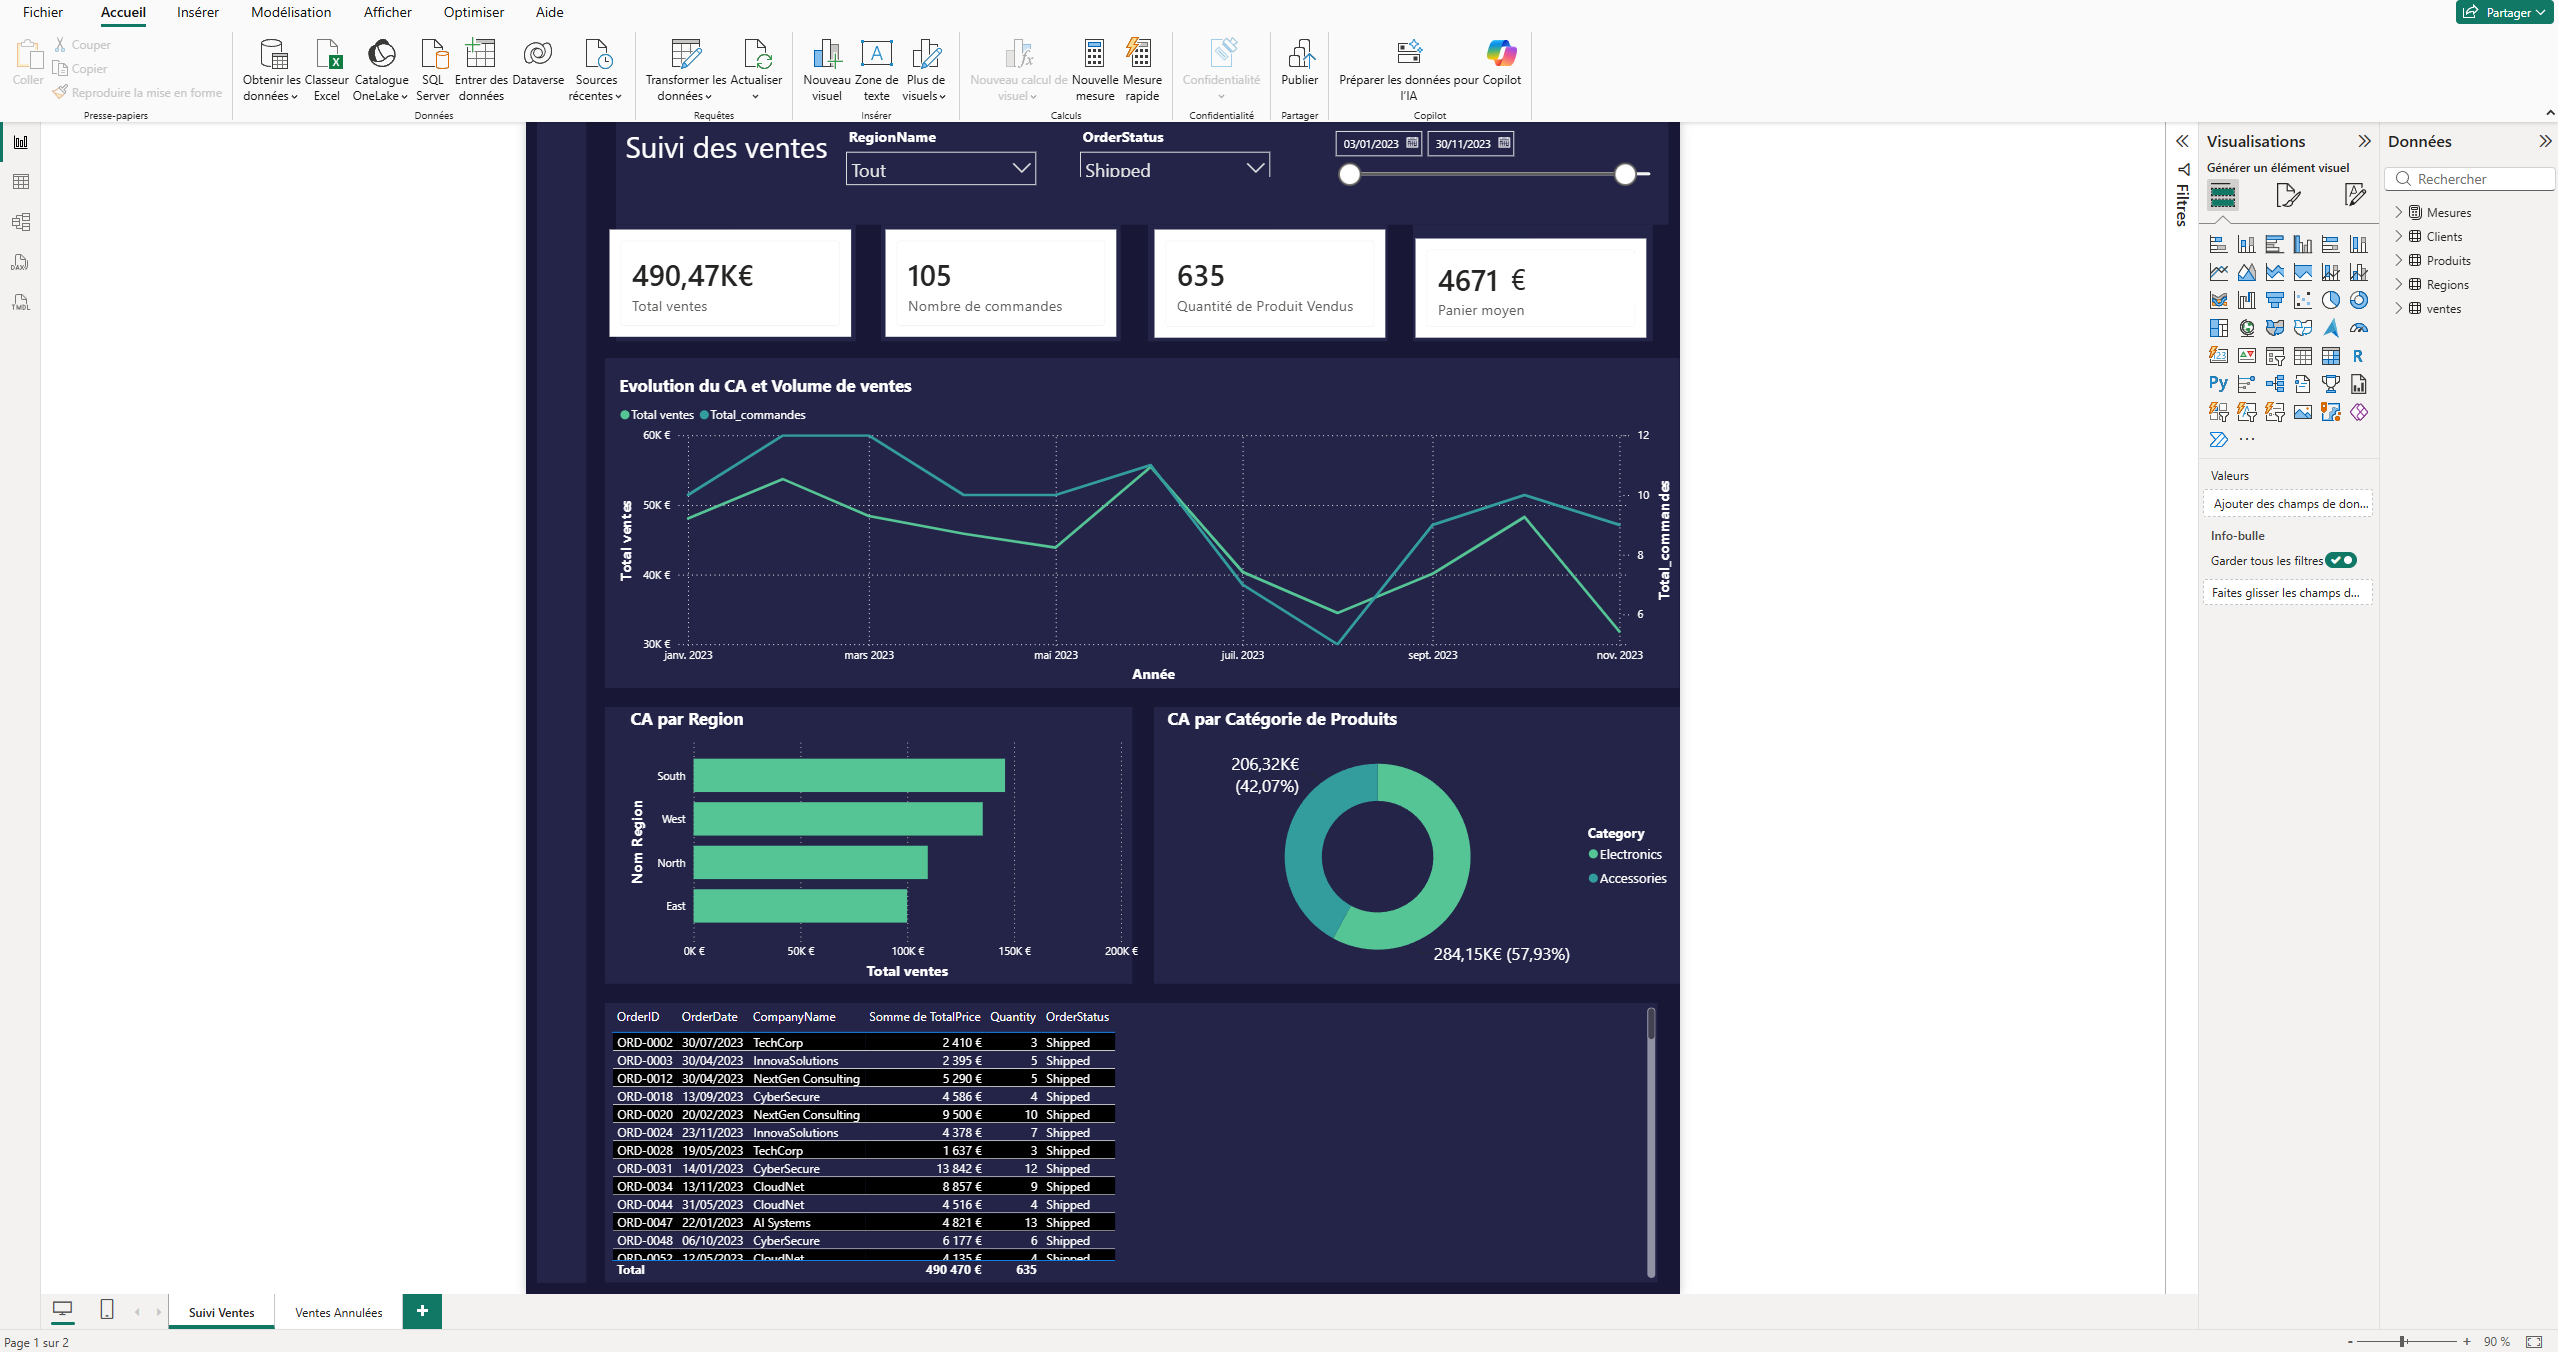

The dashboard page shown, as its layout file describes it:
{"tool":"powerbi","page":{"name":"Suivi Ventes","canvas":[1280,1300],"ordinal":0},"visuals":[{"type":"shape","box":[12.2,0,54.7,1287.6],"z":0},{"type":"shape","box":[100.3,0,1167.5,114],"z":1000},{"type":"shape","box":[100.3,114,266,129.2],"z":2000},{"type":"shape","box":[88.2,261.5,1191.8,366.4],"z":3000},{"type":"shape","box":[88.2,649.1,585.3,307.1],"z":4000},{"type":"shape","box":[696.2,649.1,583.8,307.1],"z":5000},{"type":"shape","box":[88.2,977.5,1167.5,310.1],"z":6000},{"type":"textbox","box":[104.9,0,258.4,89.7],"z":7000},{"type":"shape","box":[393.7,114,266,129.2],"z":8000},{"type":"shape","box":[690.2,114,266,129.2],"z":9000},{"type":"shape","box":[983.6,114,266,129.2],"z":10000},{"type":"cardVisual","fields":{"Data":["ventes.Total ventes"]},"box":[88.2,114,278.2,129.2],"z":11000},{"type":"cardVisual","fields":{"Data":["ventes.Total_commandes"]},"box":[393.7,114,266,129.2],"z":12000},{"type":"cardVisual","fields":{"Data":["Produits.Quantité de Produit Vendus"]},"box":[691.7,114,266,130.7],"z":13000},{"type":"cardVisual","fields":{"Data":["ventes.Panier moyen"]},"box":[982,124.7,266,120.1],"z":14000},{"type":"textbox","box":[1086.9,145.9,145.9,57.8],"z":15000},{"type":"lineChart","title":"Evolution du CA et Volume de ventes","fields":{"Category":["ventes.OrderDate.Variation.Hiérarchie de dates.Année","ventes.OrderDate.Variation.Hiérarchie de dates.Trimestre","ventes.OrderDate.Variation.Hiérarchie de dates.Mois"],"Y":["Mesures.Total ventes"],"Y2":["Mesures.Total_commandes"]},"box":[98.8,279.7,1181.2,348.1],"z":16000},{"type":"barChart","title":"CA par Region","fields":{"Category":["Regions.RegionName"],"Y":["Mesures.Total ventes"]},"box":[111,649.1,573.1,307.1],"z":17000},{"type":"donutChart","title":"CA par Catégorie de Produits","fields":{"Category":["Produits.Category"],"Y":["Mesures.Total ventes"]},"box":[706.9,649.1,573.1,307.1],"z":18000},{"type":"tableEx","fields":{"Values":["ventes.OrderID","ventes.OrderDate","Clients.CompanyName","Sum(ventes.TotalPrice)","Sum(ventes.Quantity)","ventes.OrderStatus"]},"box":[89.7,977.5,1167.5,310.1],"z":19000},{"type":"slicer","fields":{"Values":["Regions.RegionName"]},"box":[345.1,0,231.1,114],"z":20000},{"type":"slicer","fields":{"Values":["ventes.OrderStatus"]},"box":[605,0,231.1,60.8],"z":21000},{"type":"slicer","fields":{"Values":["ventes.OrderDate"]},"box":[884.8,0,383.1,114],"z":22000}]}

Visuals, with their boxes on the page's 1280x1300 design canvas (x1, y1, x2, y2). These are canvas units, not pixel positions in the 2558x1352 screenshot, which may show the page scaled, cropped or inside an application window:
shape: BBox(12, 0, 67, 1288)
shape: BBox(100, 0, 1268, 114)
shape: BBox(100, 114, 366, 243)
shape: BBox(88, 262, 1280, 628)
shape: BBox(88, 649, 674, 956)
shape: BBox(696, 649, 1280, 956)
shape: BBox(88, 978, 1256, 1288)
textbox: BBox(105, 0, 363, 90)
shape: BBox(394, 114, 660, 243)
shape: BBox(690, 114, 956, 243)
shape: BBox(984, 114, 1250, 243)
cardVisual - ventes.Total ventes: BBox(88, 114, 366, 243)
cardVisual - ventes.Total_commandes: BBox(394, 114, 660, 243)
cardVisual - Produits.Quantité de Produit Vendus: BBox(692, 114, 958, 245)
cardVisual - ventes.Panier moyen: BBox(982, 125, 1248, 245)
textbox: BBox(1087, 146, 1233, 204)
"Evolution du CA et Volume de ventes" lineChart: BBox(99, 280, 1280, 628)
"CA par Region" barChart: BBox(111, 649, 684, 956)
"CA par Catégorie de Produits" donutChart: BBox(707, 649, 1280, 956)
tableEx - ventes.OrderID x ventes.OrderDate: BBox(90, 978, 1257, 1288)
slicer - Regions.RegionName: BBox(345, 0, 576, 114)
slicer - ventes.OrderStatus: BBox(605, 0, 836, 61)
slicer - ventes.OrderDate: BBox(885, 0, 1268, 114)
